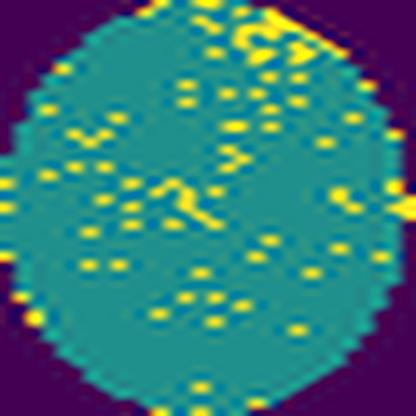Edge-Loc: (227, 8, 348, 70)
